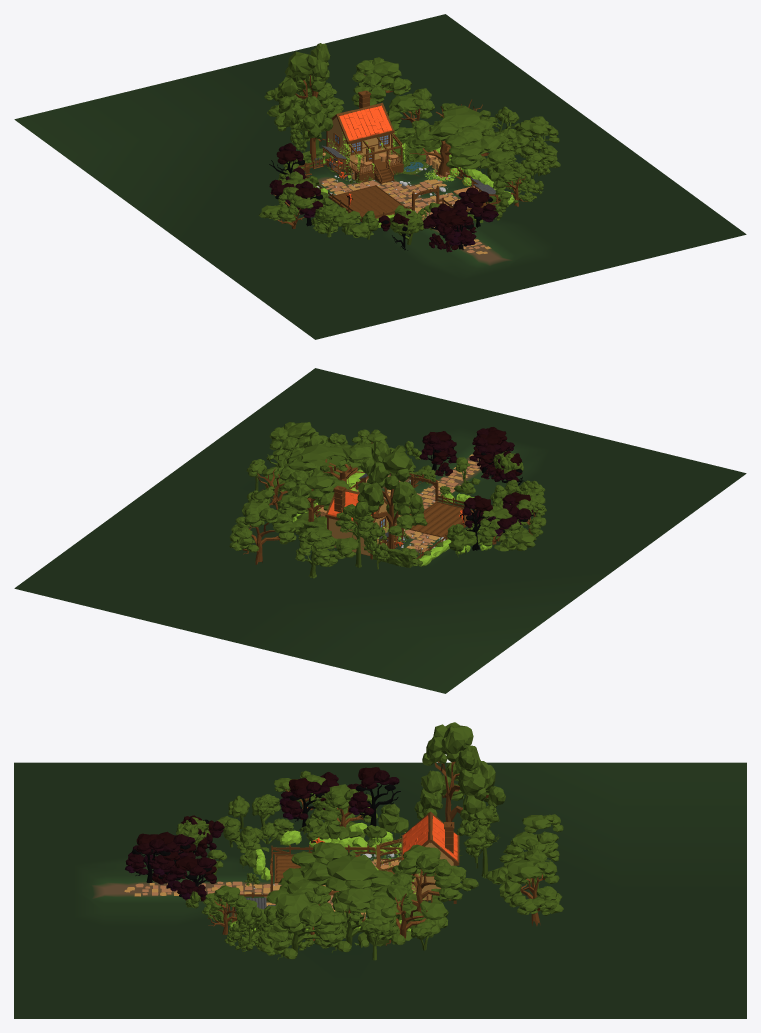
File: pccc_garden_merged_v003-transformed.glb
3 renders of one model, top to bottom at view 1: azimuth 30°, elevation 25°; view 2: azimuth 150°, elevation 25°; view 3: azimuth 270°, elevation 25°, orthographic. The views are drawn at different scales.
Visible parts, largest first — view 1: MergedEnvironment.001; view 2: MergedEnvironment.001; view 3: MergedEnvironment.001.
Part boxes in pixels (x1,y1,x2,y2): MergedEnvironment.001: (14,14,746,339); MergedEnvironment.001: (14,368,746,693); MergedEnvironment.001: (14,722,746,1018).
Size of the model in its own units: 17.38 by 4.65 by 21.01.
